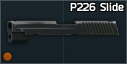P226R MK25 pistol slide: (0, 0, 127, 64)
